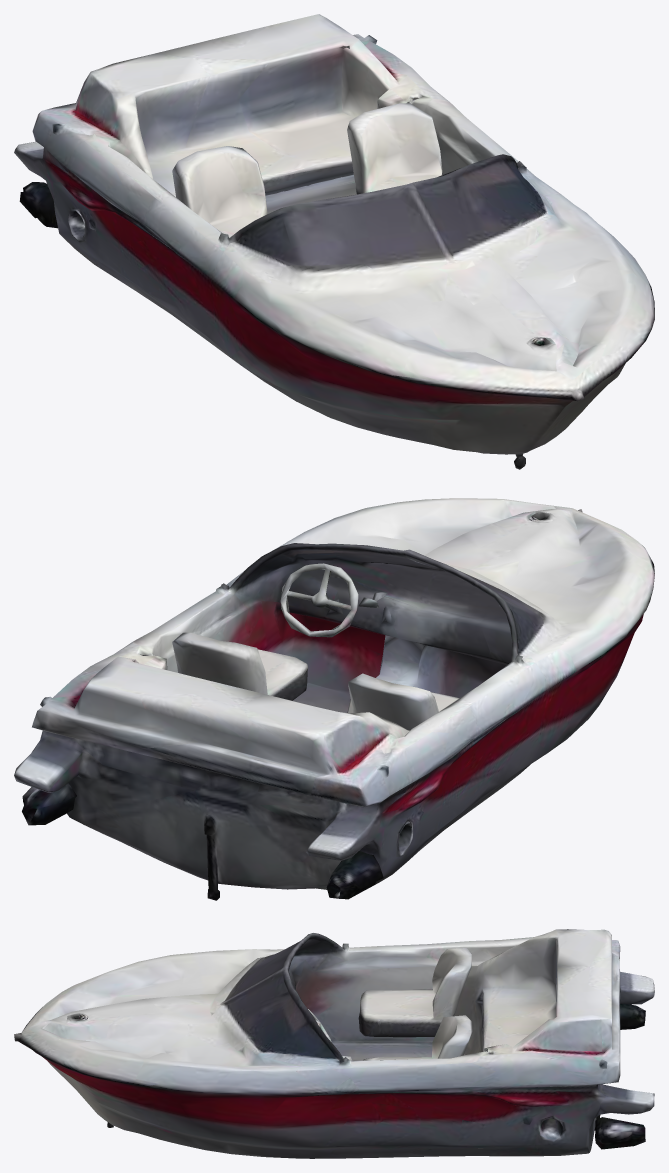
File: speedboat.glb
3 renders of one model, top to bottom at view 1: azimuth 30°, elevation 25°; view 2: azimuth 150°, elevation 25°; view 3: azimuth 270°, elevation 25°, orthographic. The views are drawn at different scales.
Parts seen in each view (by area): view 1: tripo_node_47cc5c7f-db2d-4f6c-9377-f706c4fea46f; view 2: tripo_node_47cc5c7f-db2d-4f6c-9377-f706c4fea46f; view 3: tripo_node_47cc5c7f-db2d-4f6c-9377-f706c4fea46f.
Boxes of the visible parts, <box> form: tripo_node_47cc5c7f-db2d-4f6c-9377-f706c4fea46f: <box>14,14,654,469</box>; tripo_node_47cc5c7f-db2d-4f6c-9377-f706c4fea46f: <box>14,498,654,900</box>; tripo_node_47cc5c7f-db2d-4f6c-9377-f706c4fea46f: <box>14,929,654,1158</box>.
Bounding box in the file's own units: 0.4977 × 0.282 × 1.
1 material, 1 textured.
